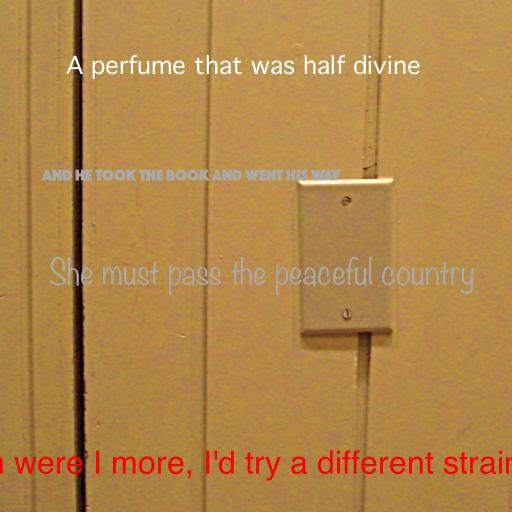Apple Chancery: (0, 450, 512, 481)
Geneva: (65, 55, 421, 80)
Noteworthy: (49, 256, 475, 296)
Phosphate: (42, 169, 340, 181)
